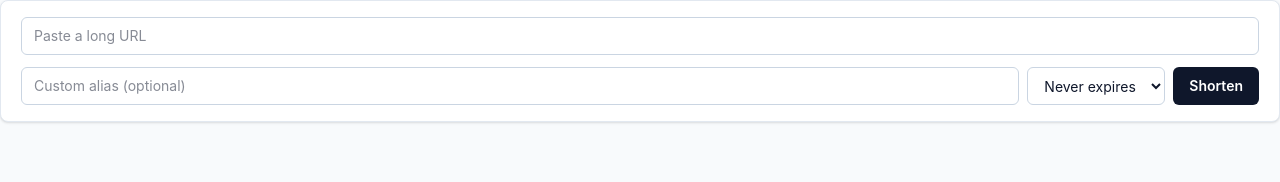
ShortenForm › sends the custom alias and expiry in the request
Step 1. Type "https://example.com" into the field labelled "long URL" → [640, 36], box [21, 17, 1259, 55]
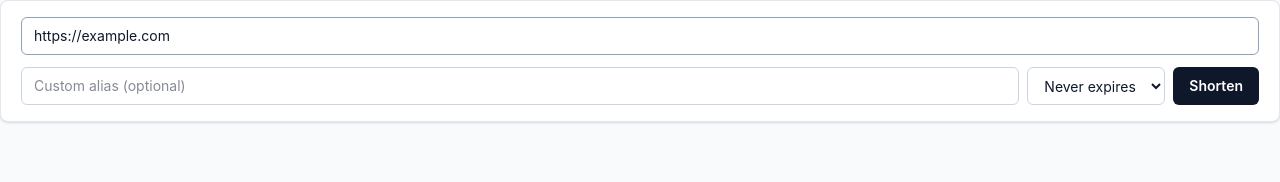
Step 2. Type "my-talk" into the field labelled "Custom alias" → [520, 86], box [21, 67, 1019, 105]
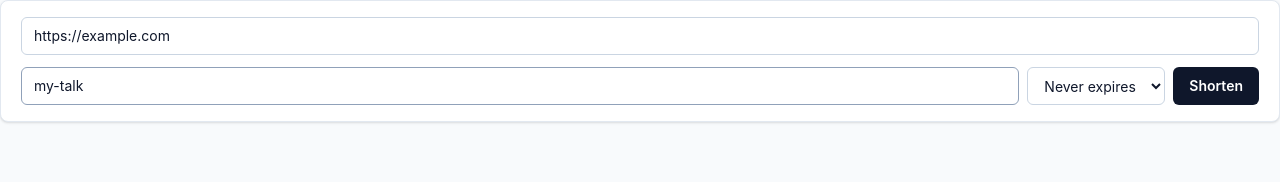
Step 3. Select "In 1 hour" in the dropdown named "Expiry" → [1096, 86], box [1027, 67, 1165, 105]
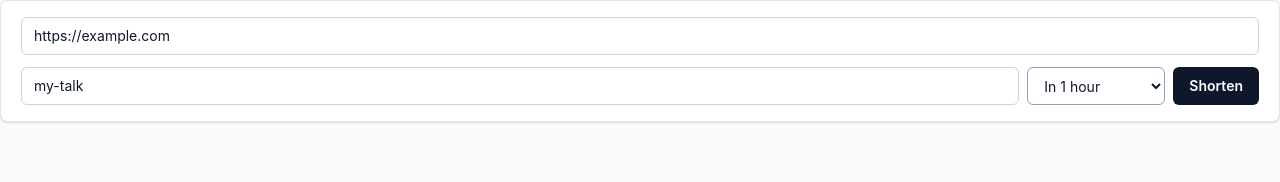
Step 4. Click the button "Shorten" → [1216, 86], box [1173, 67, 1259, 105]
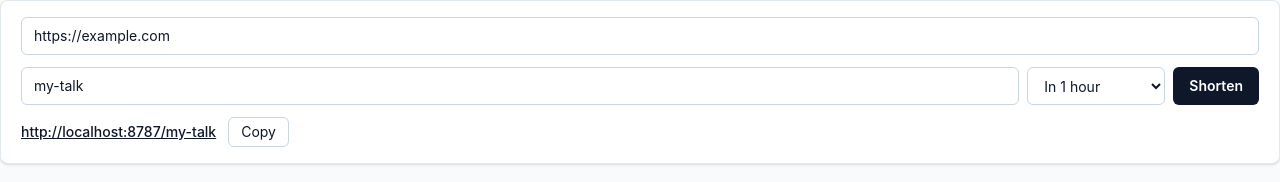
Check: the link "http://localhost:8787/my-talk" is shown, box [21, 122, 216, 142]
